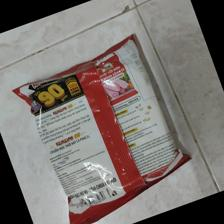Kokomi: (11, 34, 190, 224)
